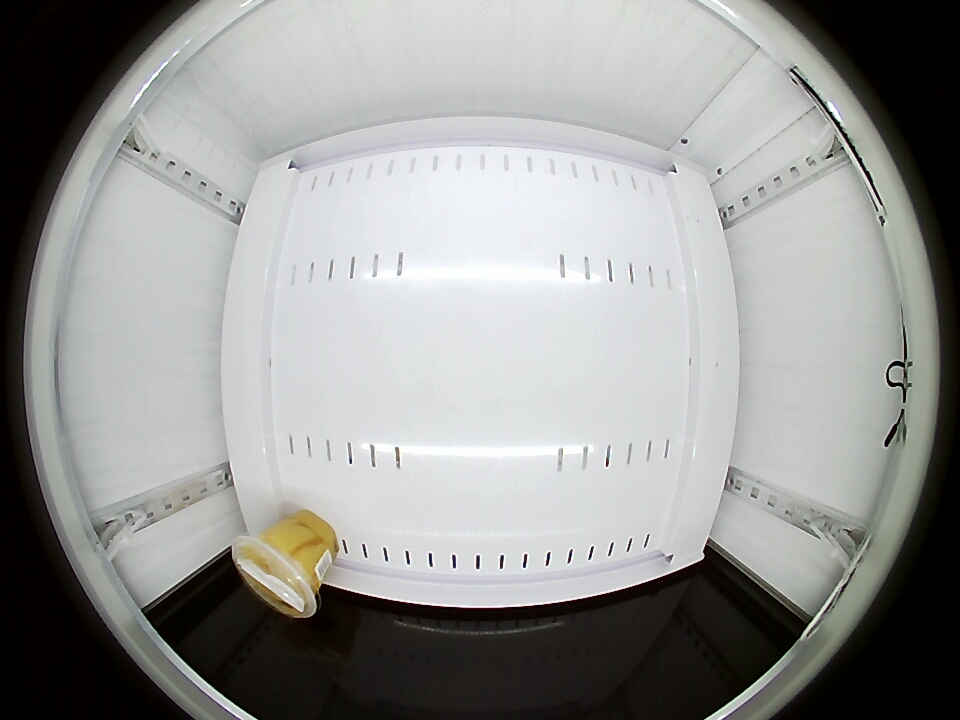xianguolao: (231, 531, 324, 618)
